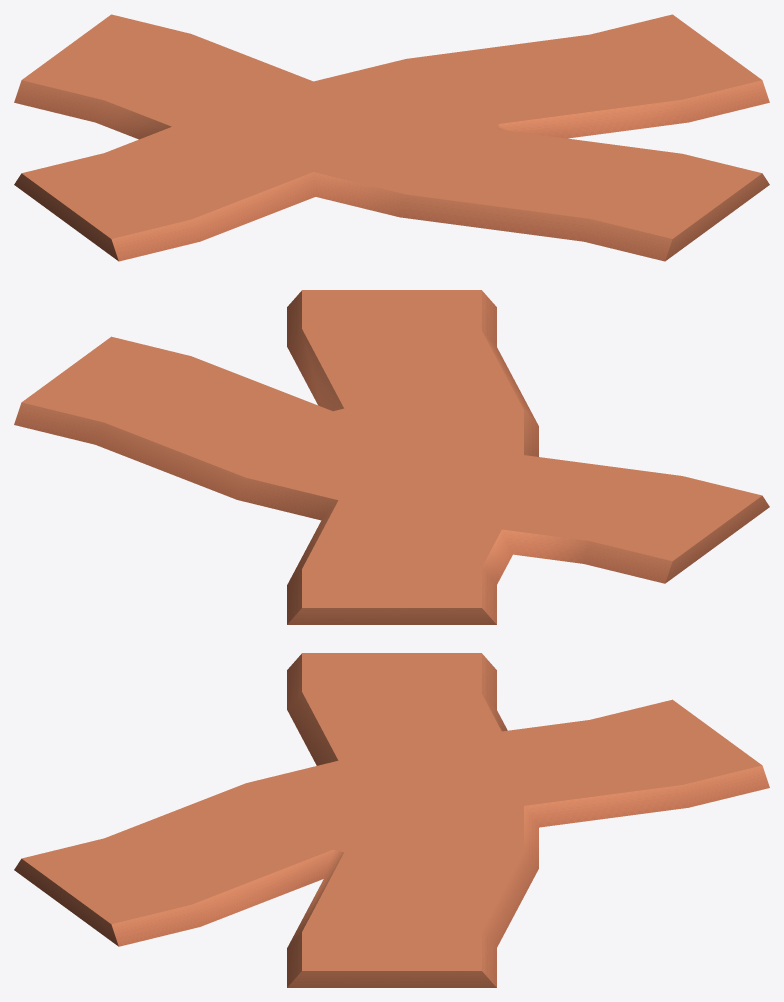
The model's file is path-intersectionE.fbx.
The picture shows the model from 3 angles, top to bottom: view 1: azimuth 30°, elevation 25°; view 2: azimuth 150°, elevation 25°; view 3: azimuth 270°, elevation 25°; orthographic projection.
Parts seen in each view (by area): view 1: path_intersectionE; view 2: path_intersectionE; view 3: path_intersectionE.
Part boxes in pixels (box(x1,y1,x2,y2)): path_intersectionE: box(14, 14, 769, 261); path_intersectionE: box(14, 290, 769, 624); path_intersectionE: box(14, 653, 769, 987).
Bounding box in the file's own units: 100 × 2.5 × 101.
Materials: 1 (1 with a texture image).
